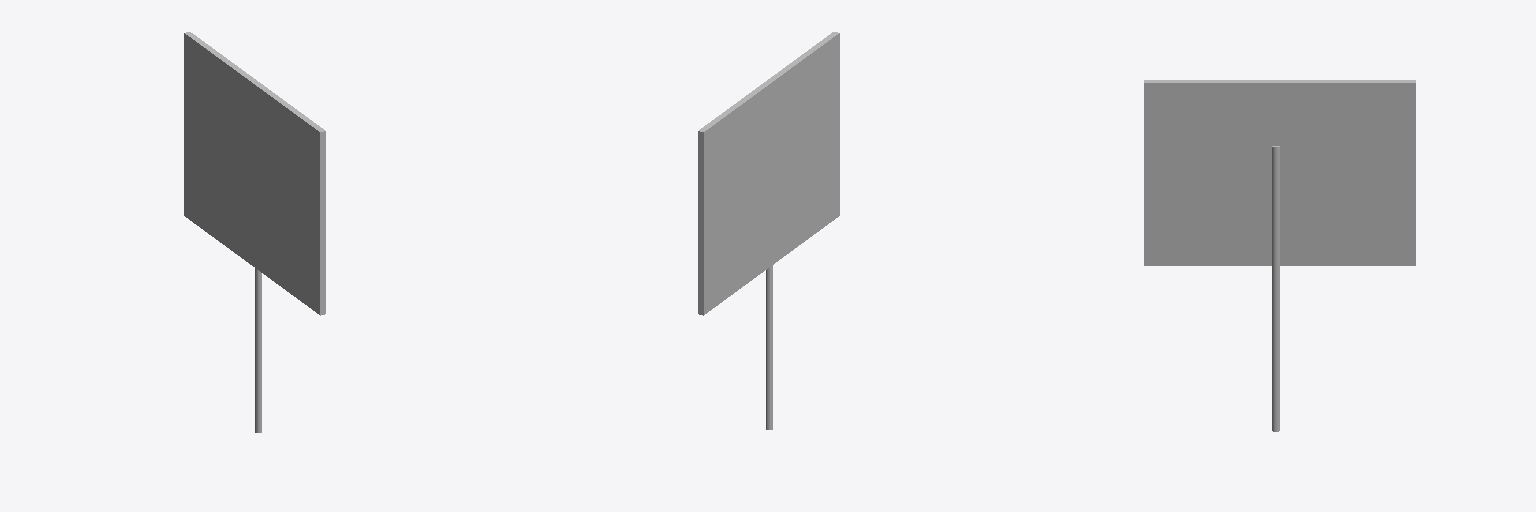
Rendered from board_19.obj.
The picture shows the model from 3 angles: view 1: azimuth 30°, elevation 25°; view 2: azimuth 150°, elevation 25°; view 3: azimuth 270°, elevation 25°; orthographic projection.
Parts seen in each view (by area): view 1: Cube.024_Cube.025, Cylinder.024; view 2: Cube.024_Cube.025, Cylinder.024; view 3: Cube.024_Cube.025, Cylinder.024.
Boxes of the visible parts, x1,y1,x2,y2 form: Cube.024_Cube.025: [184, 32, 325, 315]; Cylinder.024: [255, 268, 261, 432]; Cube.024_Cube.025: [698, 32, 839, 315]; Cylinder.024: [766, 265, 772, 429]; Cube.024_Cube.025: [1144, 80, 1415, 265]; Cylinder.024: [1272, 146, 1279, 431].
Size of the model in its own units: 0.0043 by 0.19 by 0.1344.